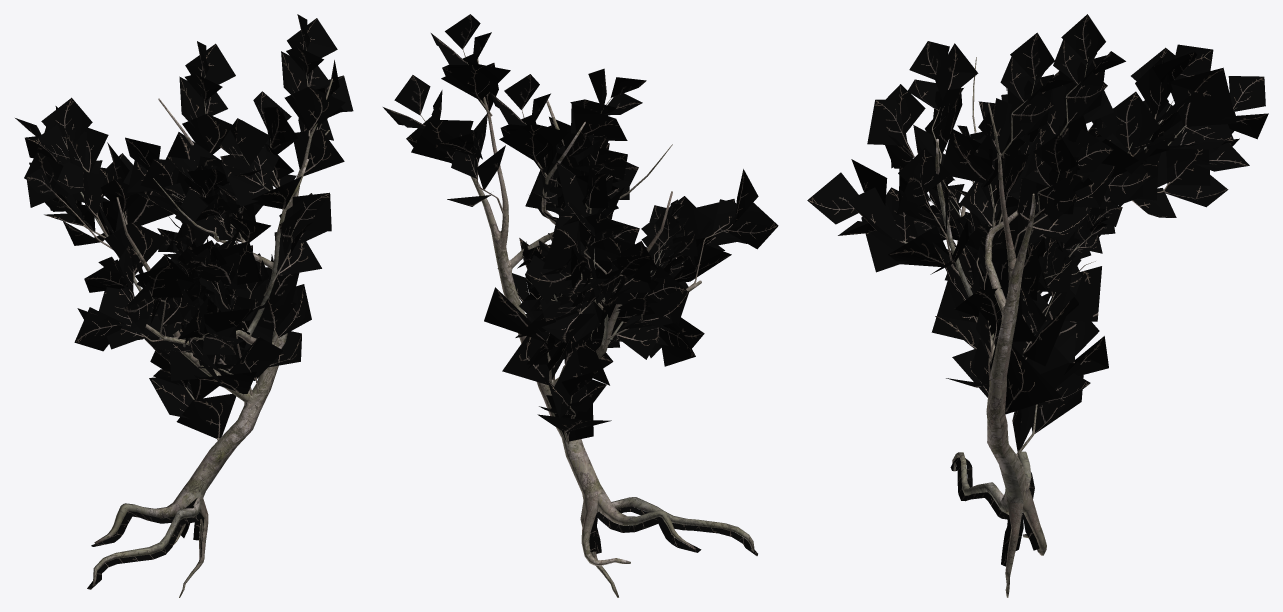
File: SM_Tree_bent_02.fbx
3 views of the same model, side by side, from view 1: azimuth 30°, elevation 25°; view 2: azimuth 150°, elevation 25°; view 3: azimuth 270°, elevation 25° (orthographic). The views are drawn at different scales.
Parts seen in each view (by area): view 1: SM_Tree_bent_02; view 2: SM_Tree_bent_02; view 3: SM_Tree_bent_02.
Part boxes in pixels (bbox=[...]): SM_Tree_bent_02: bbox=[15, 14, 353, 597]; SM_Tree_bent_02: bbox=[383, 14, 778, 597]; SM_Tree_bent_02: bbox=[807, 14, 1268, 597].
Bounding box in the file's own units: 939 × 1026 × 1570.
Materials: 2 (2 with a texture image).
